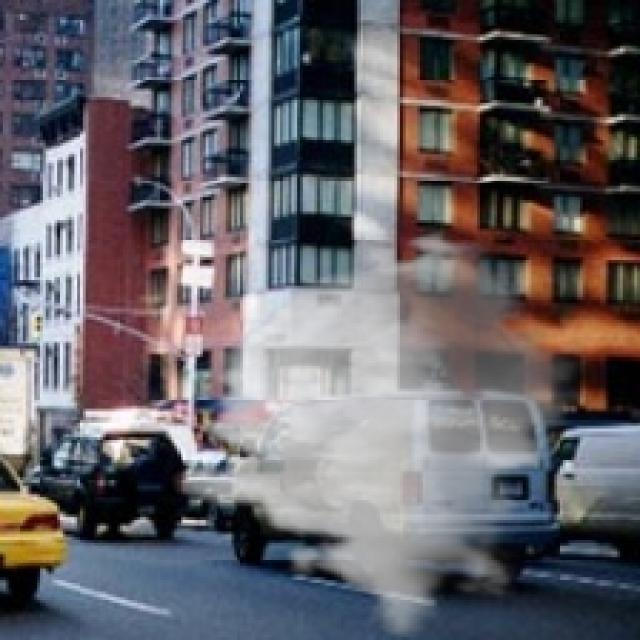Smoke: (168, 228, 594, 638)
